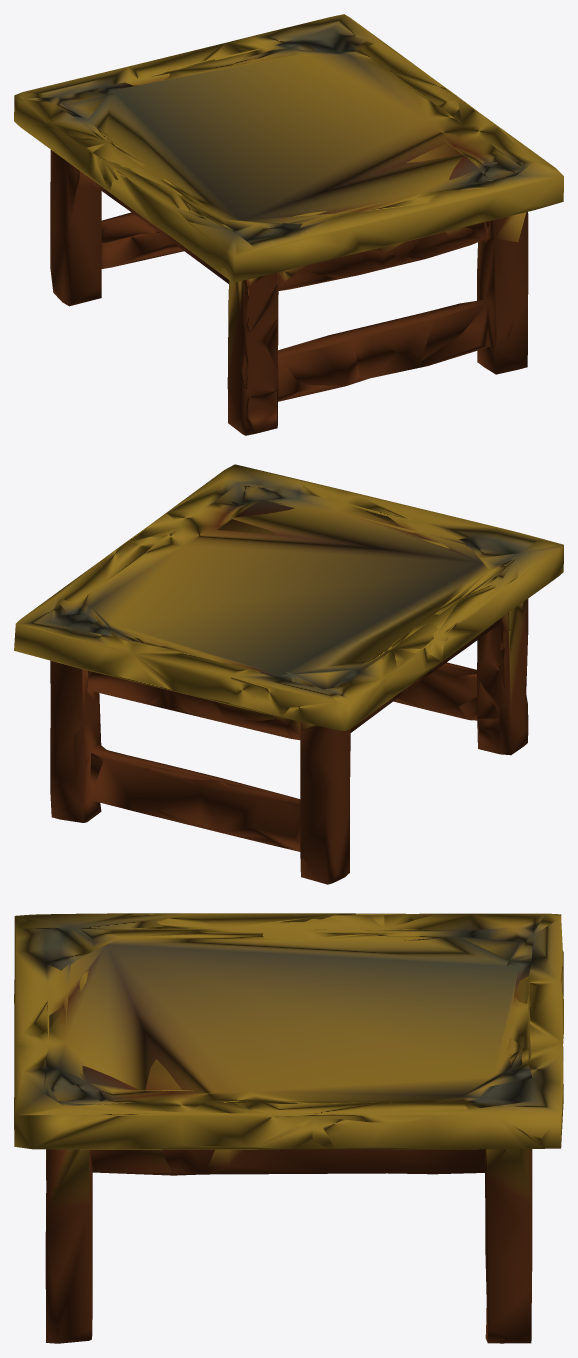
File: gen3d-crafting-table-lod0.glb
The picture shows the model from 3 angles, top to bottom: view 1: azimuth 30°, elevation 25°; view 2: azimuth 150°, elevation 25°; view 3: azimuth 270°, elevation 25°; orthographic projection. The views are drawn at different scales.
Visible parts, largest first — view 1: part_0; view 2: part_0; view 3: part_0.
Boxes of the visible parts, x1,y1,x2,y2 form: part_0: (14,14,563,435); part_0: (14,464,563,884); part_0: (14,913,563,1343).
Size of the model in its own units: 1.75 by 0.9889 by 2.01.
